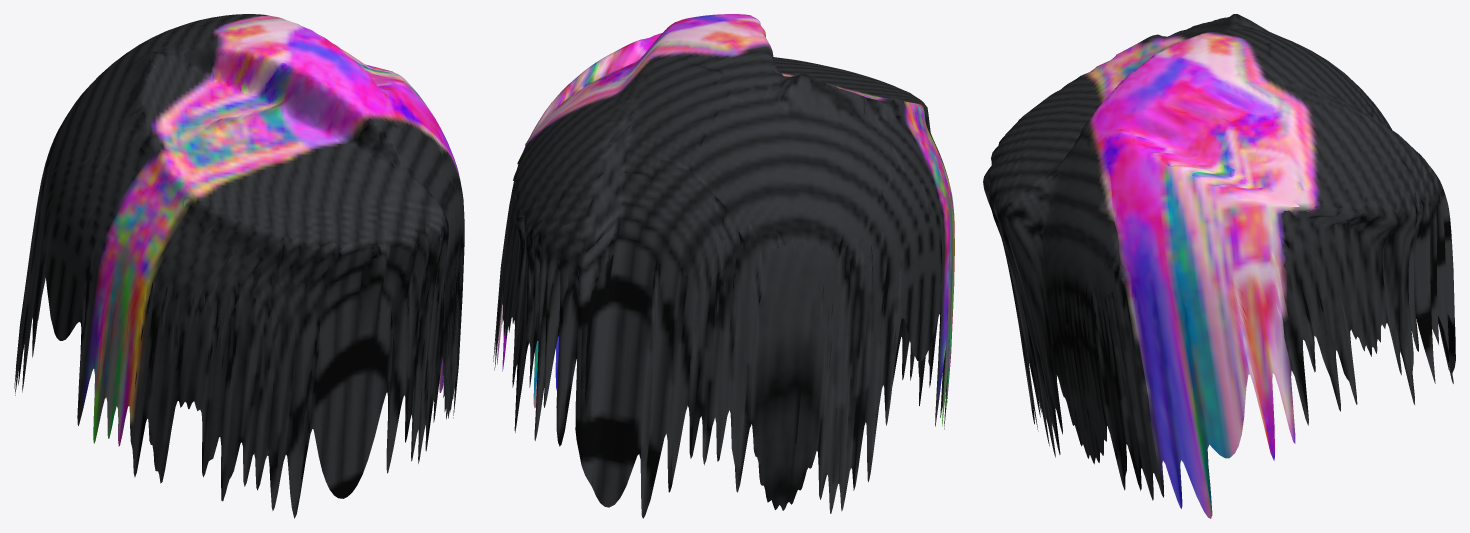
File: page1obj_v3.gltf
The picture shows the model from 3 angles, left to right: view 1: azimuth 30°, elevation 25°; view 2: azimuth 150°, elevation 25°; view 3: azimuth 270°, elevation 25°; orthographic projection. The views are drawn at different scales.
Parts seen in each view (by area): view 1: Default(D63A3606-FF84-4F48-9791-4358D7CB3DE5); view 2: Default(D63A3606-FF84-4F48-9791-4358D7CB3DE5); view 3: Default(D63A3606-FF84-4F48-9791-4358D7CB3DE5).
Part boxes in pixels (box(x1,y1,x2,y2)): Default(D63A3606-FF84-4F48-9791-4358D7CB3DE5): box(14, 14, 464, 518); Default(D63A3606-FF84-4F48-9791-4358D7CB3DE5): box(493, 14, 954, 518); Default(D63A3606-FF84-4F48-9791-4358D7CB3DE5): box(983, 14, 1455, 518).
Bounding box in the file's own units: 0.032 × 0.033 × 0.0363.
Materials: 1 (1 with a texture image).
